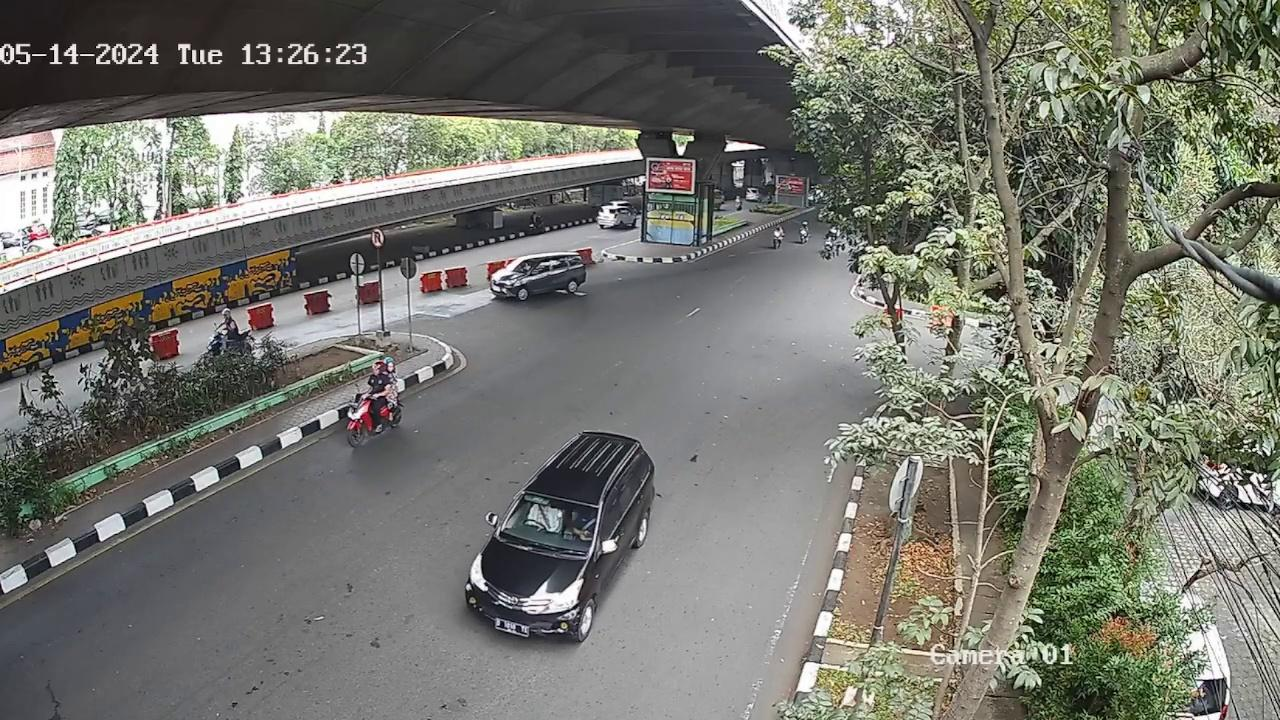pakai: (525, 498, 560, 532)
windshield: (498, 488, 599, 552)
